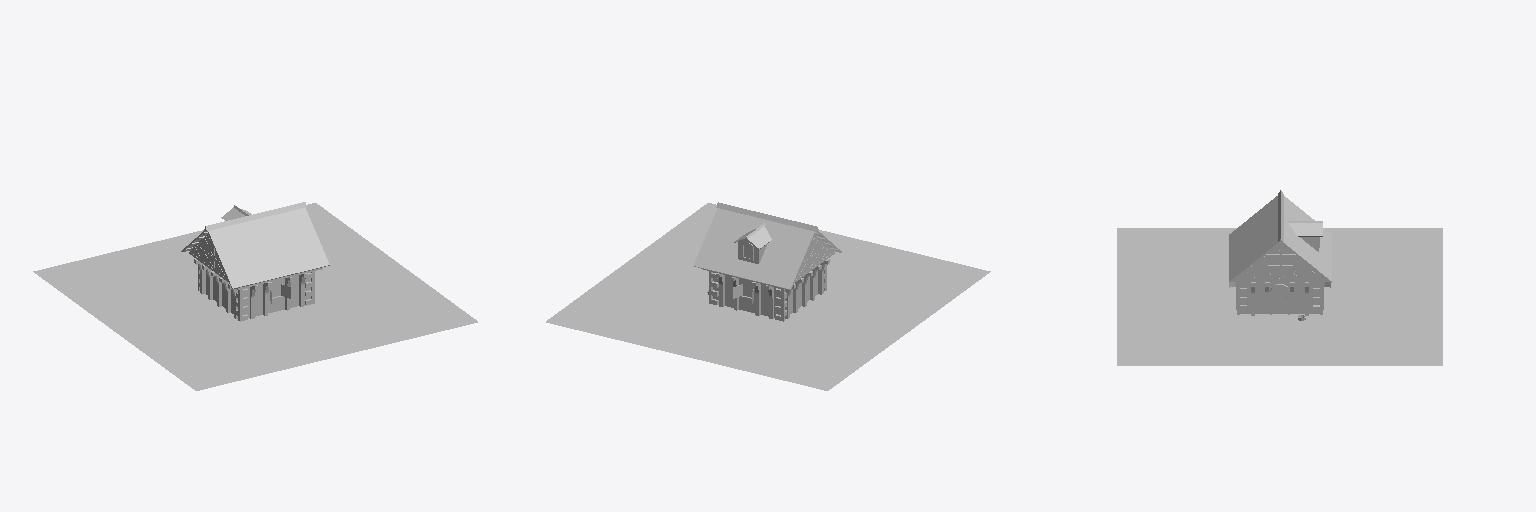
Rendered from medieval house2.obj.
The picture shows the model from 3 angles: view 1: azimuth 30°, elevation 25°; view 2: azimuth 150°, elevation 25°; view 3: azimuth 270°, elevation 25°; orthographic projection.
Parts seen in each view (by area): view 1: Plane, casa; view 2: Plane, casa; view 3: Plane, casa.
Boxes of the visible parts, x1=… form: Plane: x1=33, y1=203, x2=477, y2=390; casa: x1=181, y1=202, x2=329, y2=321; Plane: x1=546, y1=203, x2=990, y2=390; casa: x1=693, y1=202, x2=841, y2=321; Plane: x1=1117, y1=228, x2=1442, y2=365; casa: x1=1229, y1=190, x2=1331, y2=320.
Size of the model in its own units: 204 by 57.56 by 204.